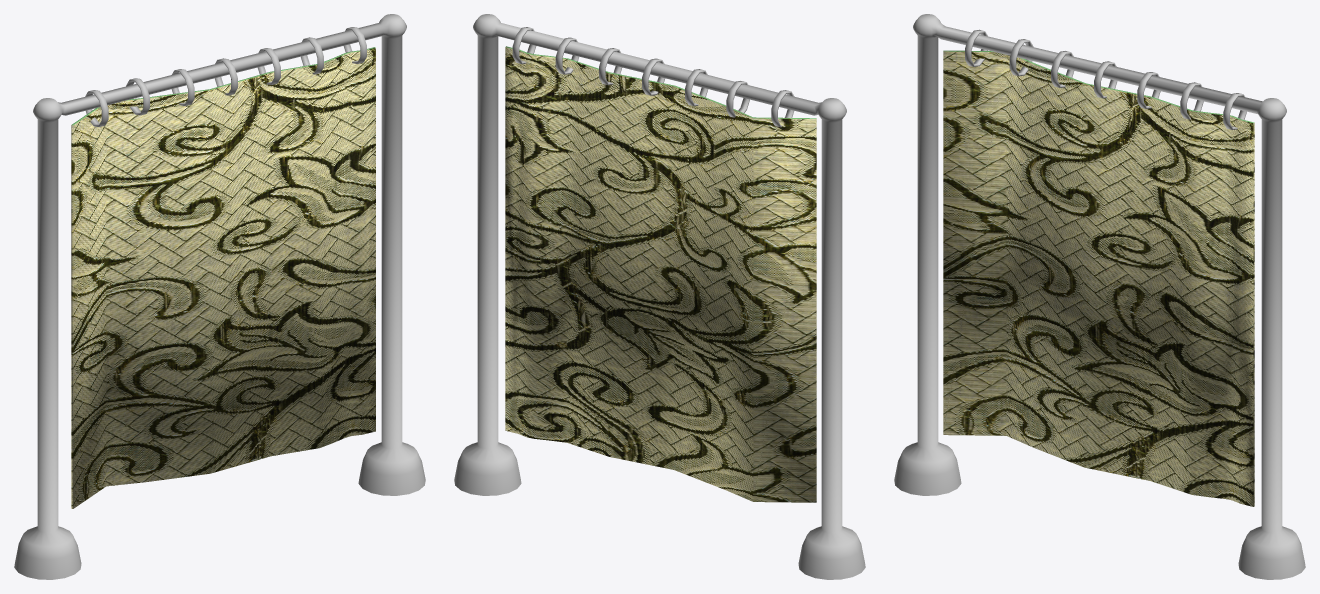
File: Curtains.fbx
3 renders of one model, left to right at view 1: azimuth 30°, elevation 25°; view 2: azimuth 150°, elevation 25°; view 3: azimuth 330°, elevation 25°, orthographic.
Visible parts, largest first — view 1: Curtains; view 2: Curtains; view 3: Curtains.
Part boxes in pixels (x1=…): Curtains: x1=14, y1=14, x2=425, y2=579; Curtains: x1=454, y1=14, x2=865, y2=579; Curtains: x1=894, y1=14, x2=1305, y2=579.
Size of the model in its own units: 10.84 by 11.93 by 1.58.
